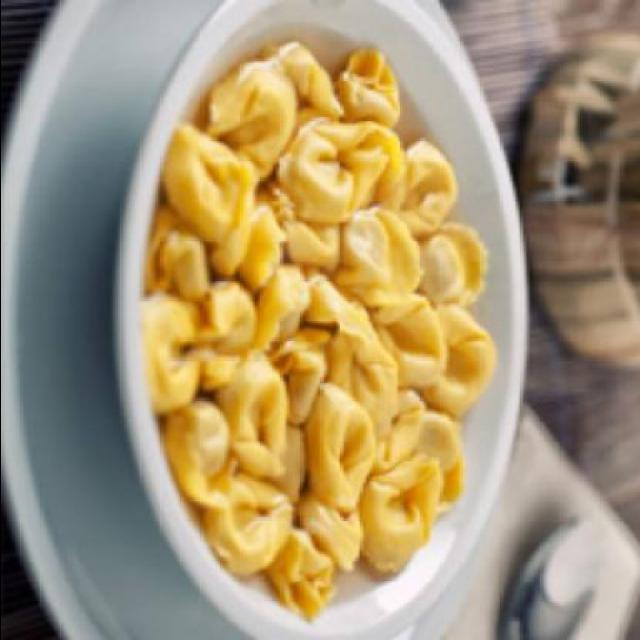Tortellini in broth: (114, 44, 503, 618)
